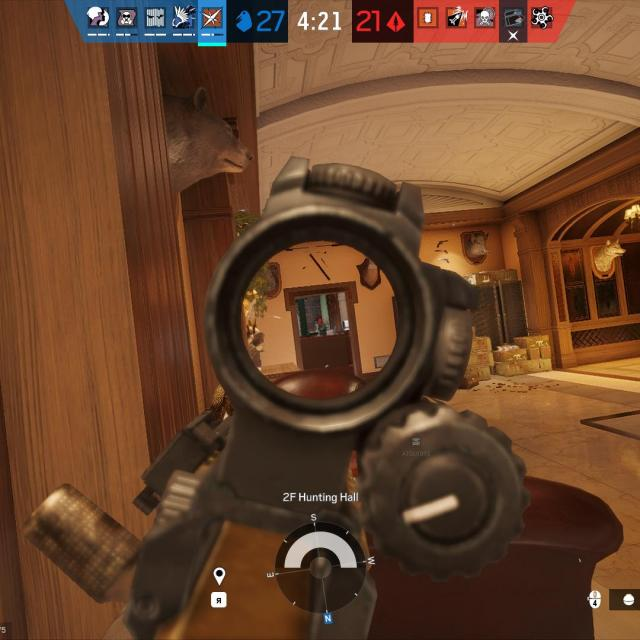Friend_label: (401, 437, 431, 458)
